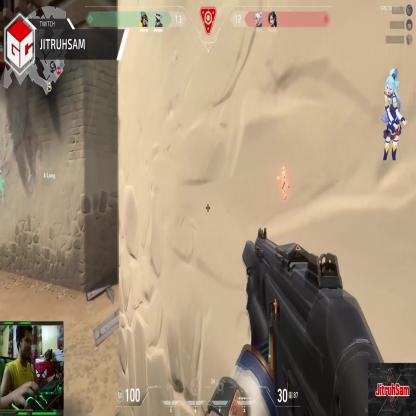enemy: (278, 167, 289, 201)
enemy_head: (281, 167, 285, 174)
